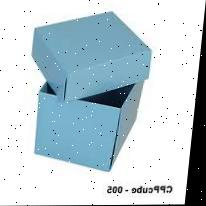cube: (32, 79, 148, 173)
